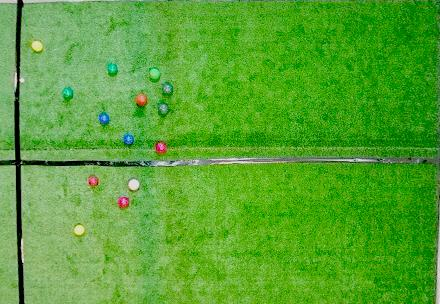blue: (124, 135, 134, 145), (99, 114, 109, 124)
green: (162, 83, 174, 94), (149, 68, 160, 80), (63, 87, 73, 99), (158, 103, 168, 113), (108, 64, 118, 74)
red: (155, 142, 167, 154), (118, 196, 129, 209), (136, 94, 147, 106), (128, 179, 139, 190), (88, 176, 99, 186)
vline: (1, 1, 27, 303), (432, 1, 439, 303)
white: (20, 78, 25, 83)
yellow: (31, 41, 43, 52), (74, 225, 85, 235)
